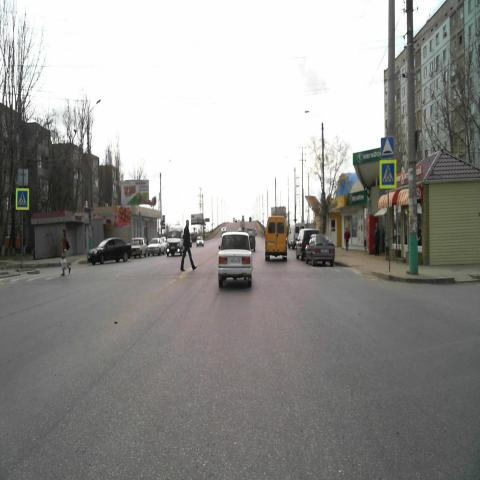5_20: (380, 137, 394, 156)
